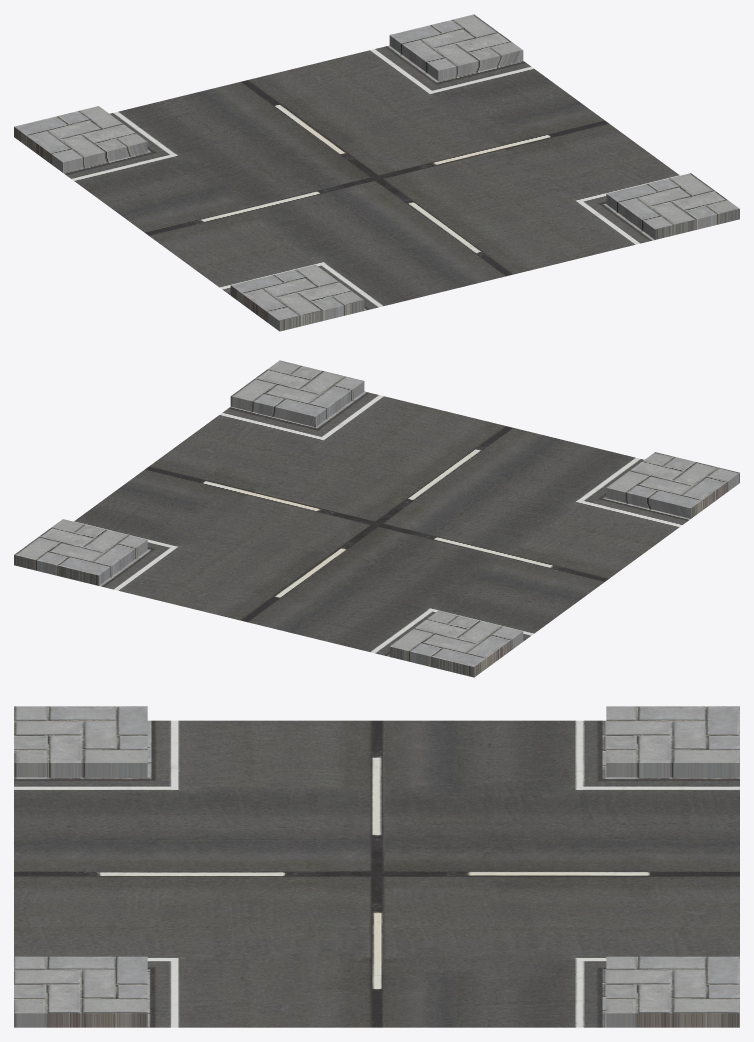
File: road3.FBX
3 views of the same model, one above another, from view 1: azimuth 30°, elevation 25°; view 2: azimuth 150°, elevation 25°; view 3: azimuth 270°, elevation 25° (orthographic). The views are drawn at different scales.
Parts seen in each view (by area): view 1: Plane01; view 2: Plane01; view 3: Plane01.
Part boxes in pixels (x1,y1,x2,y2): Plane01: [14, 14, 739, 331]; Plane01: [14, 360, 739, 677]; Plane01: [14, 706, 739, 1027].
Size of the model in its own units: 1024 by 22.13 by 1024.
1 material, 1 textured.
